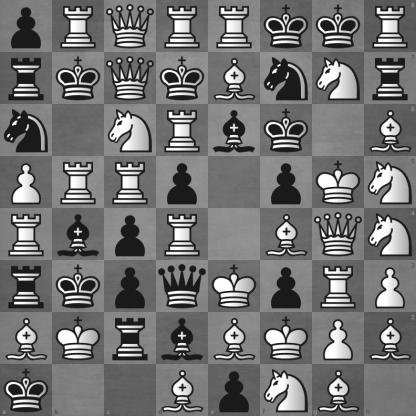B: (156, 364, 209, 416), (312, 364, 364, 416), (364, 104, 416, 156), (364, 312, 416, 364), (1, 313, 52, 364), (209, 53, 260, 104), (209, 313, 260, 364), (261, 209, 312, 260)
K: (53, 313, 104, 364), (209, 261, 260, 312), (261, 313, 312, 364), (313, 157, 364, 208)
N: (364, 156, 416, 209), (260, 364, 312, 416), (364, 209, 416, 260), (105, 105, 156, 156), (313, 53, 364, 104)
P: (364, 260, 416, 312), (1, 157, 52, 208), (313, 313, 364, 364)
Q: (105, 1, 156, 52), (105, 53, 156, 104), (313, 209, 364, 260)
R: (364, 0, 416, 52), (1, 209, 52, 260), (53, 1, 104, 52), (53, 157, 104, 208), (105, 157, 156, 208), (157, 1, 208, 52), (157, 105, 208, 156), (157, 209, 208, 260), (209, 1, 260, 52), (313, 261, 364, 312)
b: (53, 209, 104, 260), (157, 313, 208, 364), (209, 105, 260, 156)
board: (0, 0, 415, 415)
k: (0, 364, 52, 416), (53, 53, 104, 104), (53, 261, 104, 312), (157, 53, 208, 104), (261, 1, 312, 52), (261, 105, 312, 156), (313, 1, 364, 52)
n: (1, 105, 52, 156), (261, 53, 312, 104)
p: (209, 364, 260, 416), (1, 1, 52, 52), (105, 209, 156, 260), (105, 261, 156, 312), (157, 157, 208, 208), (261, 157, 312, 208), (261, 261, 312, 312)
q: (157, 261, 208, 312)
r: (364, 52, 416, 104), (1, 53, 52, 104), (1, 261, 52, 312), (105, 313, 156, 364)
